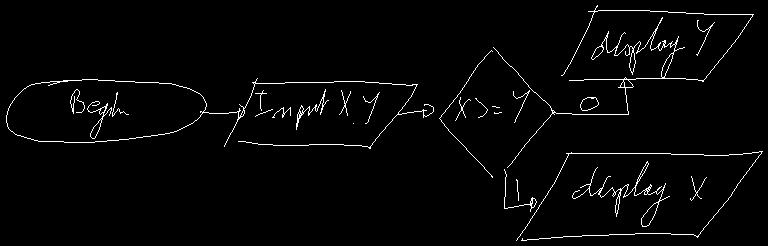arrow: (551, 77, 633, 114), (504, 169, 536, 211), (200, 104, 244, 119), (397, 104, 433, 117)
data: (516, 151, 762, 240), (561, 5, 753, 81), (224, 78, 417, 148)
decision: (439, 47, 553, 177)
terminator: (6, 79, 206, 142)
text: (572, 161, 706, 226), (591, 17, 714, 77), (255, 89, 379, 129), (70, 89, 128, 138), (455, 90, 529, 122), (580, 97, 598, 110), (516, 179, 519, 200)
